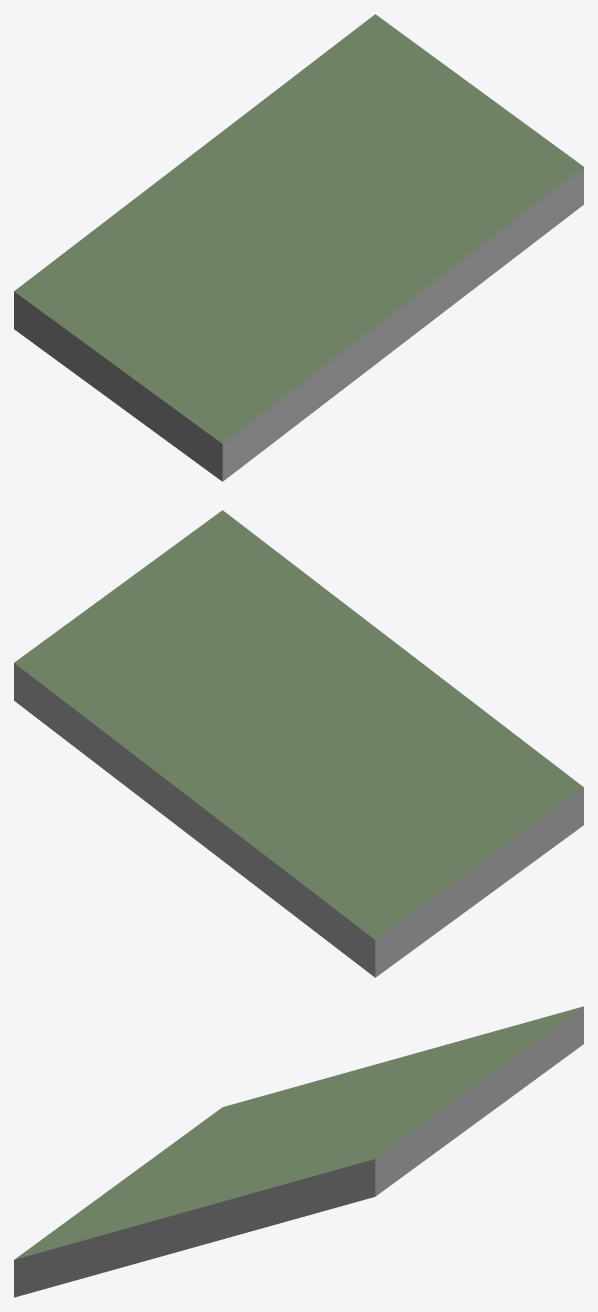
The model's file is curlingpCube567.fbx.
3 views of the same model, one above another, from view 1: azimuth 30°, elevation 25°; view 2: azimuth 150°, elevation 25°; view 3: azimuth 330°, elevation 25° (orthographic).
Visible parts, largest first — view 1: pCube567; view 2: pCube567; view 3: pCube567.
Part boxes in pixels (box(x1,y1,x2,y2)): pCube567: box(14, 14, 583, 481); pCube567: box(14, 510, 583, 977); pCube567: box(14, 1006, 583, 1297).
Size of the model in its own units: 100 by 60 by 100.
